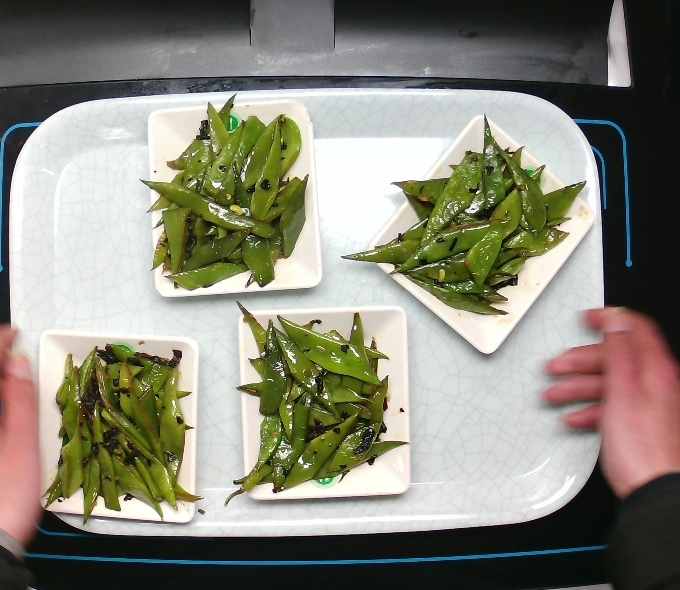wcq-ChaoSiJiDou: (335, 110, 591, 320), (216, 297, 414, 509), (135, 90, 314, 295), (40, 340, 204, 526)
